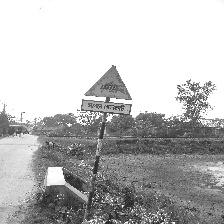Rail-crossing: (82, 66, 133, 115)
